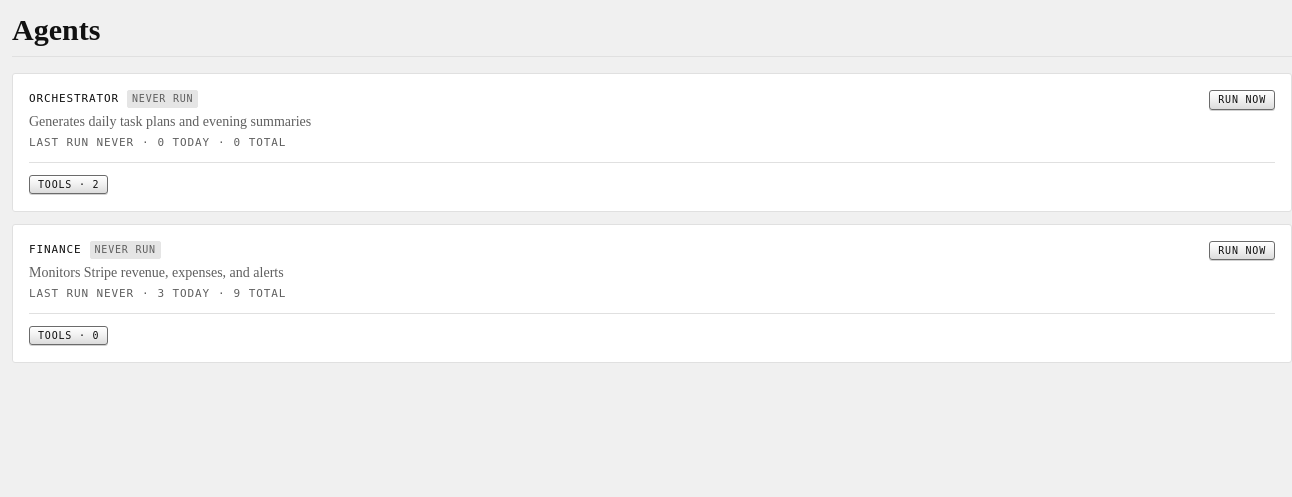
Test: Agents page toolbox (V20 L4) › Escape collapses the section and returns focus to the button; the button re-opens by keyboard
The image size is (1292, 497).
Click the button "Tools · 2" at (69, 185), box top-left (29, 175), bottom-right (108, 194)
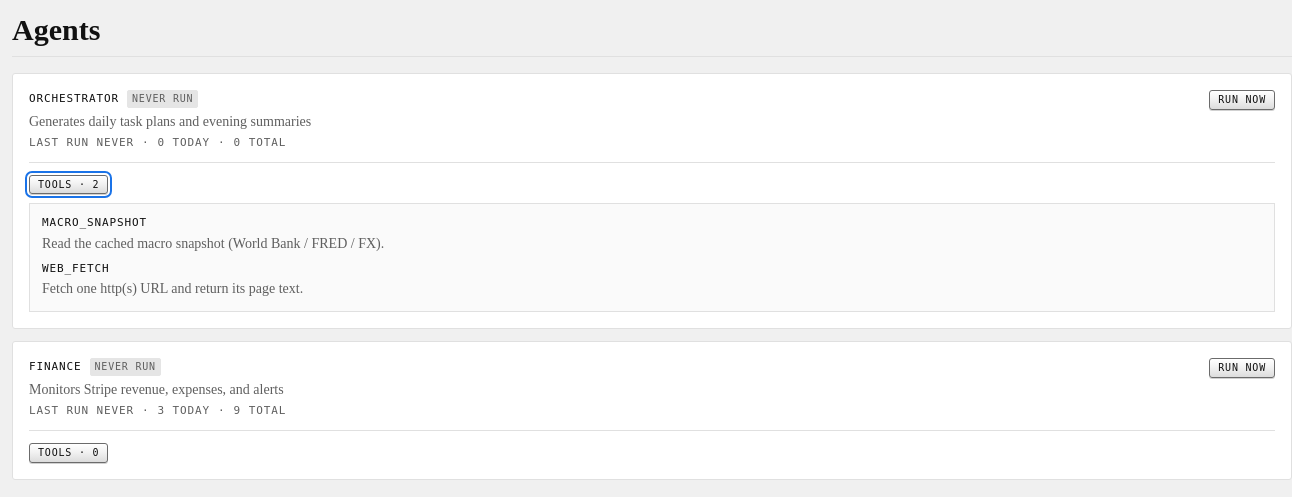
Press Escape
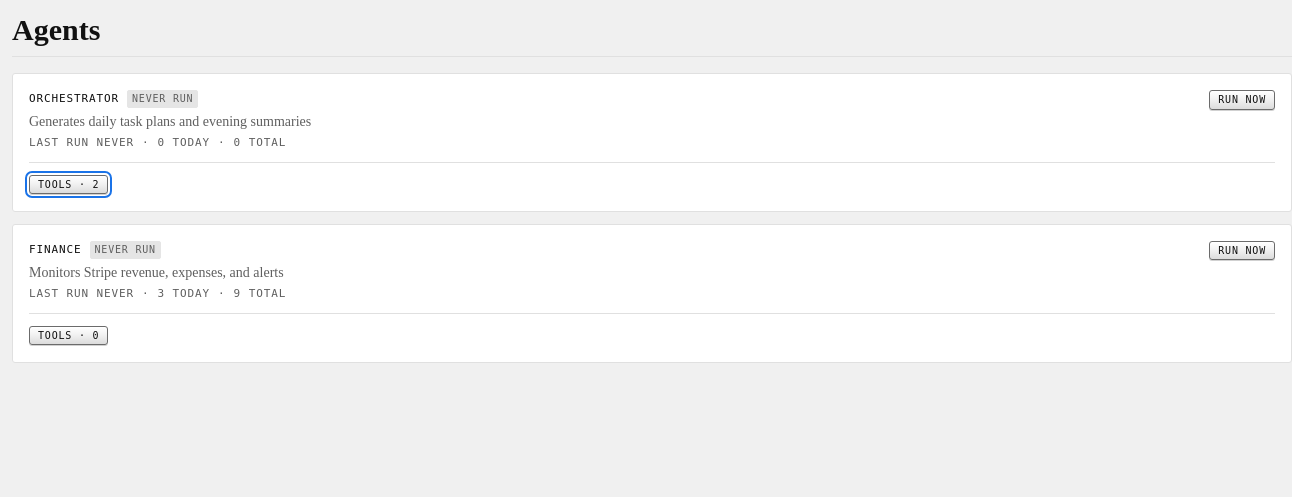
Press Enter
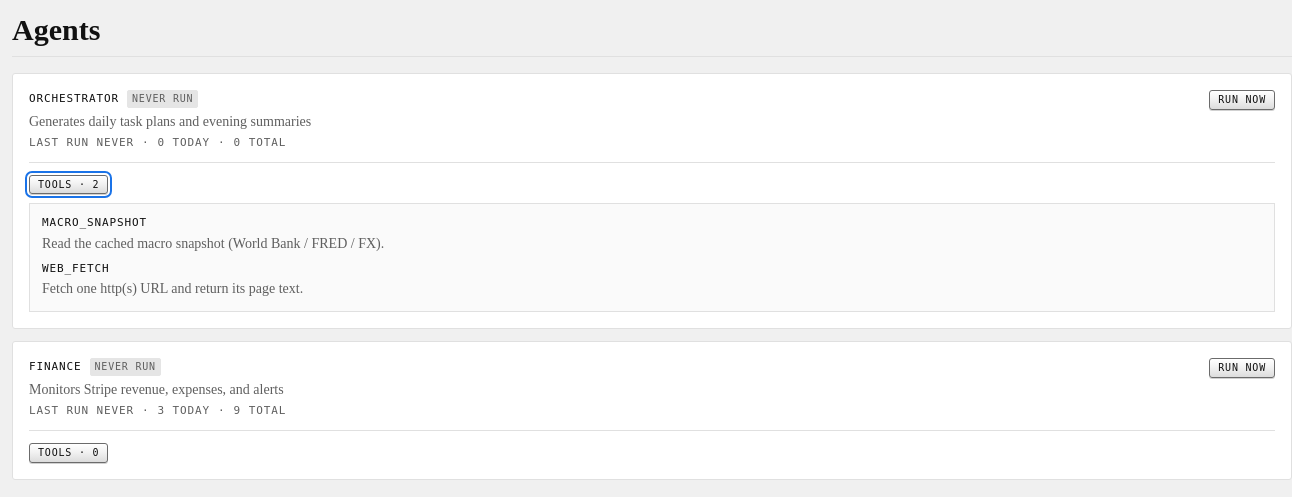
Now the text "macro_snapshot" is shown, box top-left (42, 216), bottom-right (147, 229)
